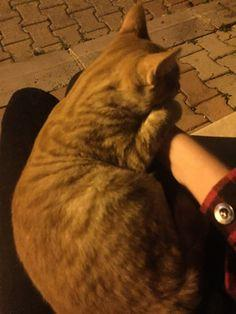kedo: (11, 2, 202, 314)
